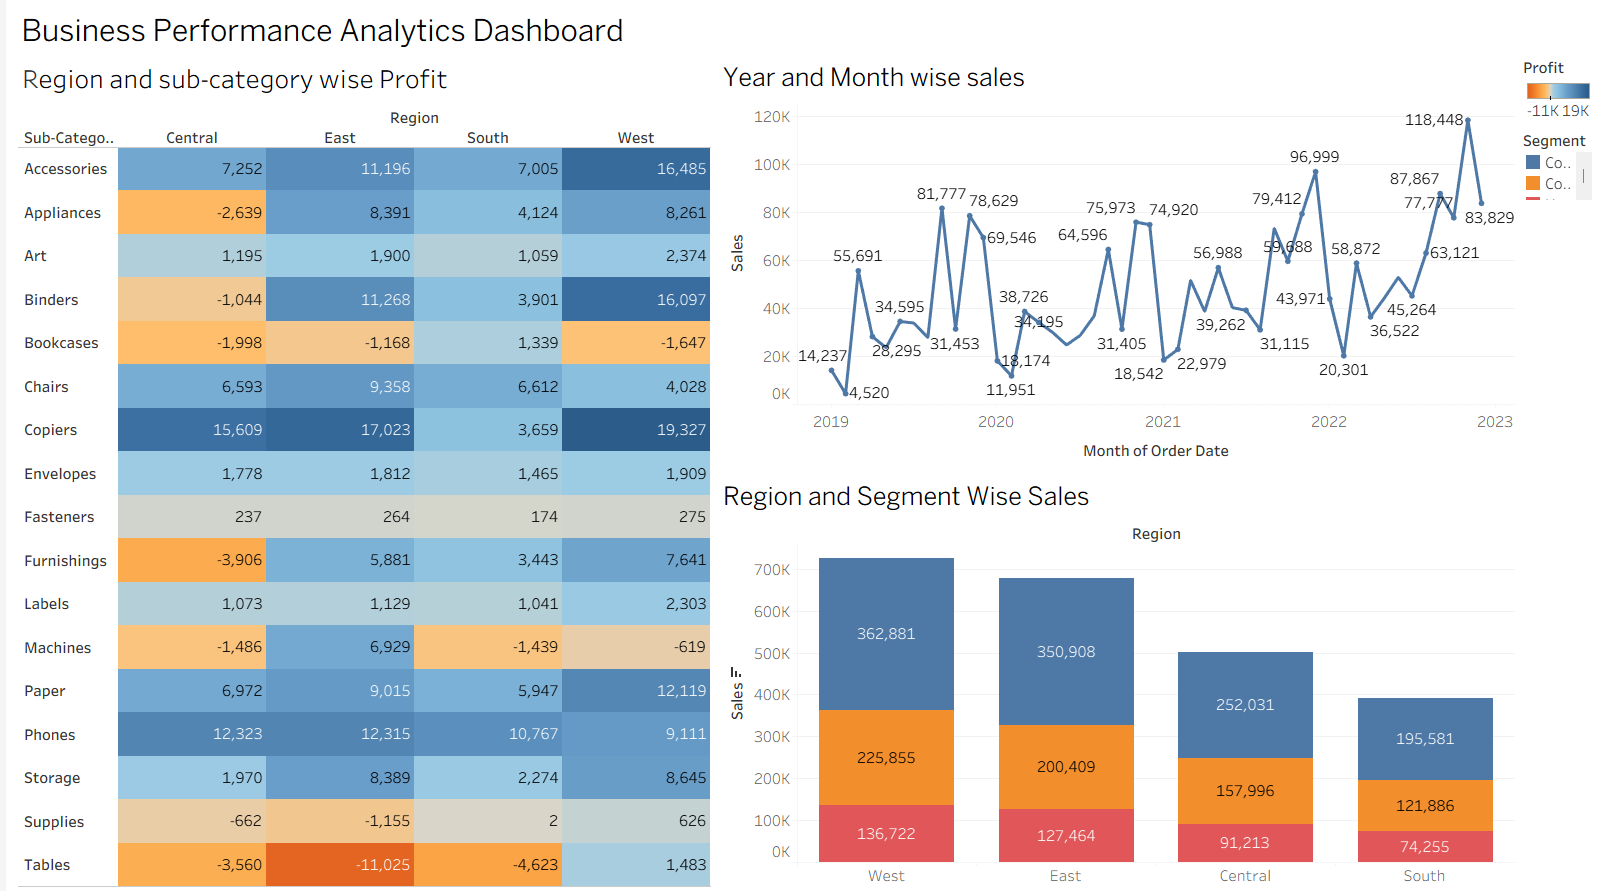

The page's visual inventory and layout, read from the dashboard file:
{"tool":"tableau","page":{"name":"Business Performance Analytics Dashboard","canvas":[1600,900],"ordinal":0},"visuals":[{"type":"title","box":[8,8,1584,46]},{"type":"worksheet","title":"Region and sub-category wise Profit","mark":"Square","rows":["Sub-Category"],"cols":["Region"],"box":[8,54,701.3,838]},{"type":"worksheet","title":"Year and Month wise sales","mark":"Automatic","rows":["Sales"],"cols":["Order Date"],"box":[709.3,54,803.7,419]},{"type":"legend","title":"Region and sub-category wise Profit","param":"[federated.0q8yhsi0li3jvq1atekcg0qfpybu].[sum:Profit:qk]","box":[1513,54,79,73]},{"type":"legend","title":"Region and Segment Wise Sales","param":"[federated.0q8yhsi0li3jvq1atekcg0qfpybu].[none:Segment:nk]","box":[1513,127,79,78]},{"type":"worksheet","title":"Region and Segment Wise Sales","mark":"Automatic","rows":["Sales"],"cols":["Region"],"box":[709.3,473,803.7,419]}]}

Visuals, with their boxes in screenshot pixels (x1, y1, x2, y2), scaled from the page's 1600x900 canvas onto the 1604x891 screenshot:
title: box(8, 8, 1596, 53)
"Region and sub-category wise Profit" worksheet (Square marks): box(8, 53, 711, 883)
"Year and Month wise sales" worksheet: box(711, 53, 1517, 468)
"Region and sub-category wise Profit" legend: box(1517, 53, 1596, 126)
"Region and Segment Wise Sales" legend: box(1517, 126, 1596, 203)
"Region and Segment Wise Sales" worksheet: box(711, 468, 1517, 883)
